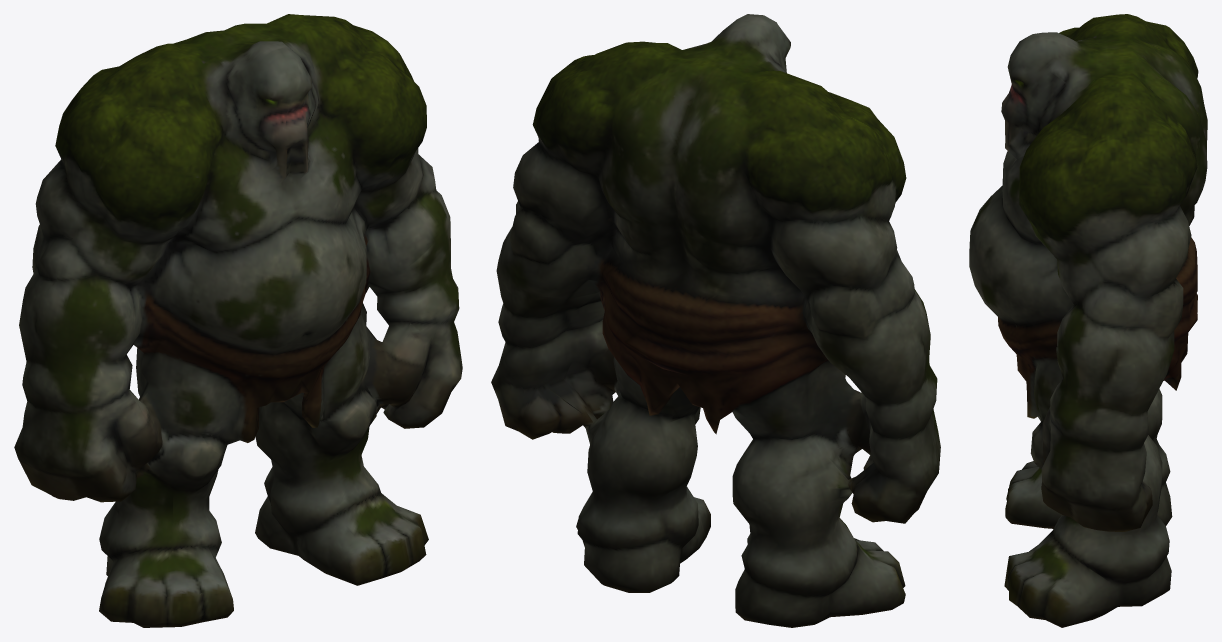
File: bog_drowned_v2.glb
3 renders of one model, left to right at view 1: azimuth 30°, elevation 25°; view 2: azimuth 150°, elevation 25°; view 3: azimuth 270°, elevation 25°, orthographic. The views are drawn at different scales.
Parts seen in each view (by area): view 1: bog-drowned-m0-4000-v1; view 2: bog-drowned-m0-4000-v1; view 3: bog-drowned-m0-4000-v1.
Part boxes in pixels (x1,y1,x2,y2): bog-drowned-m0-4000-v1: (14, 14, 462, 627); bog-drowned-m0-4000-v1: (491, 14, 940, 627); bog-drowned-m0-4000-v1: (969, 14, 1207, 627).
Size of the model in its own units: 0.8368 by 1 by 0.4187.
Materials: 1 (1 with a texture image).
